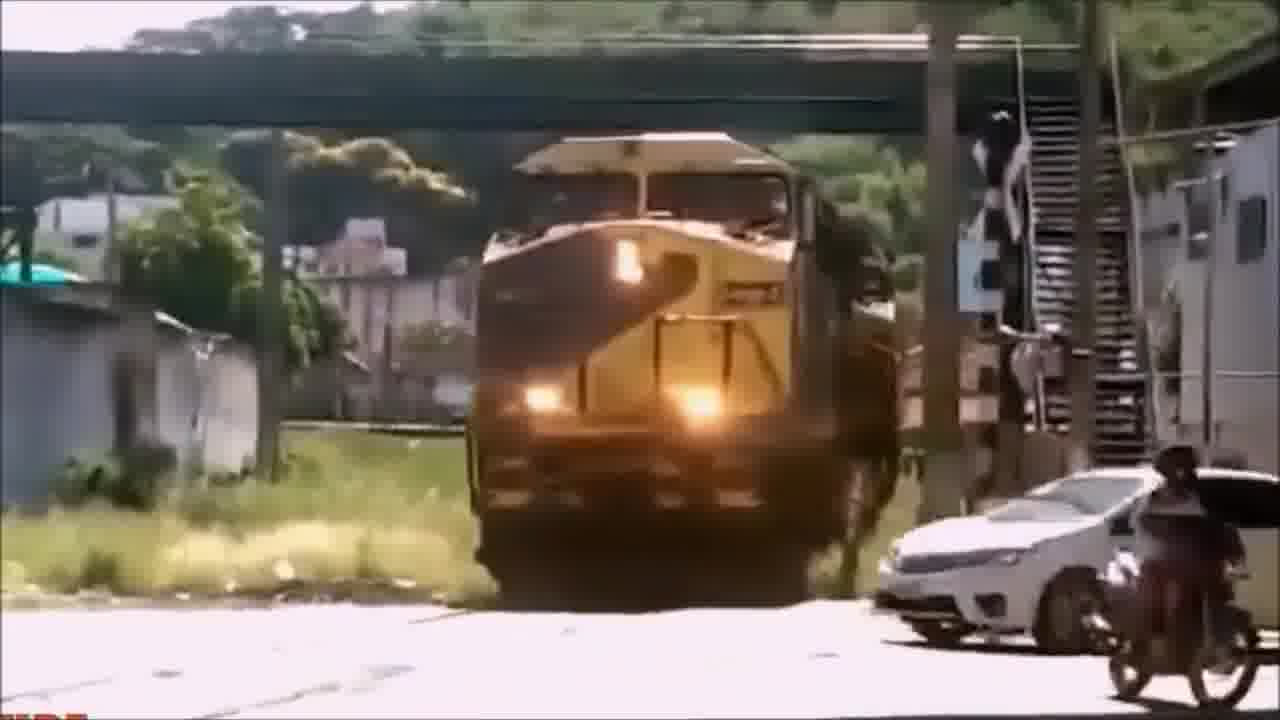crossing railway track: (874, 456, 1280, 666)
